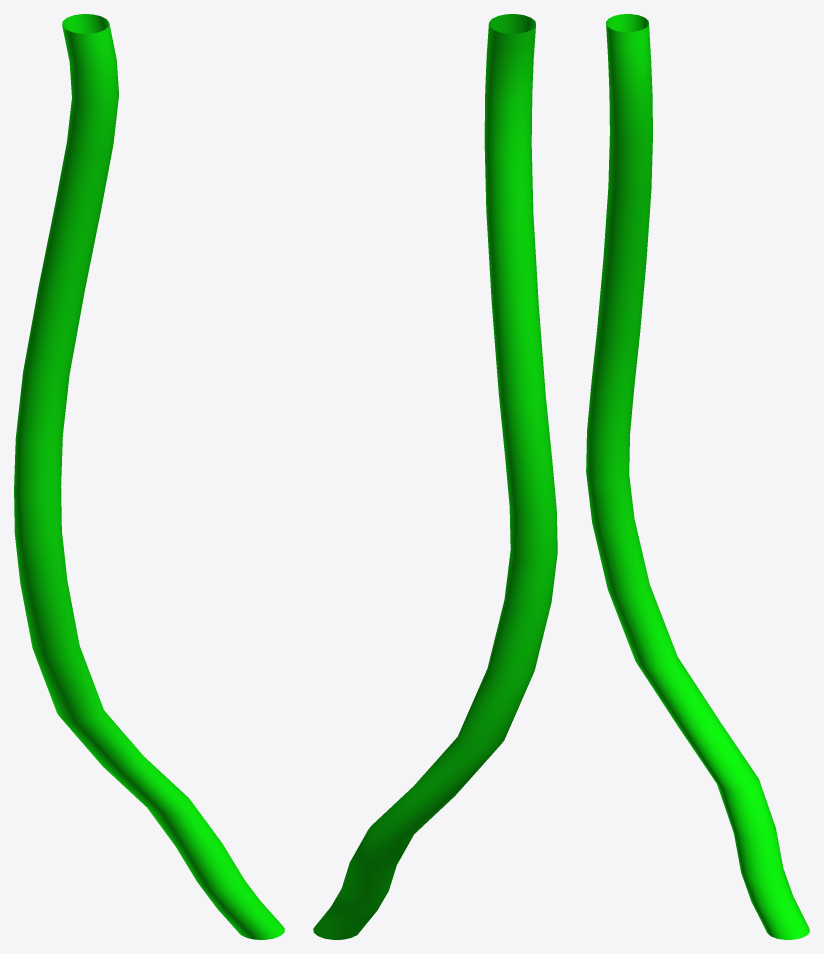
The model's file is wire_fixed_2.gltf.
The picture shows the model from 3 angles, left to right: view 1: azimuth 30°, elevation 25°; view 2: azimuth 150°, elevation 25°; view 3: azimuth 330°, elevation 25°; orthographic projection. The views are drawn at different scales.
Visible parts, largest first — view 1: wire_fixed_2c.001; view 2: wire_fixed_2c.001; view 3: wire_fixed_2c.001.
Part boxes in pixels (x1,y1,x2,y2): wire_fixed_2c.001: (14, 14, 284, 939); wire_fixed_2c.001: (313, 14, 557, 939); wire_fixed_2c.001: (586, 14, 809, 939).
Size of the model in its own units: 0.434 by 1.56 by 0.1408.
